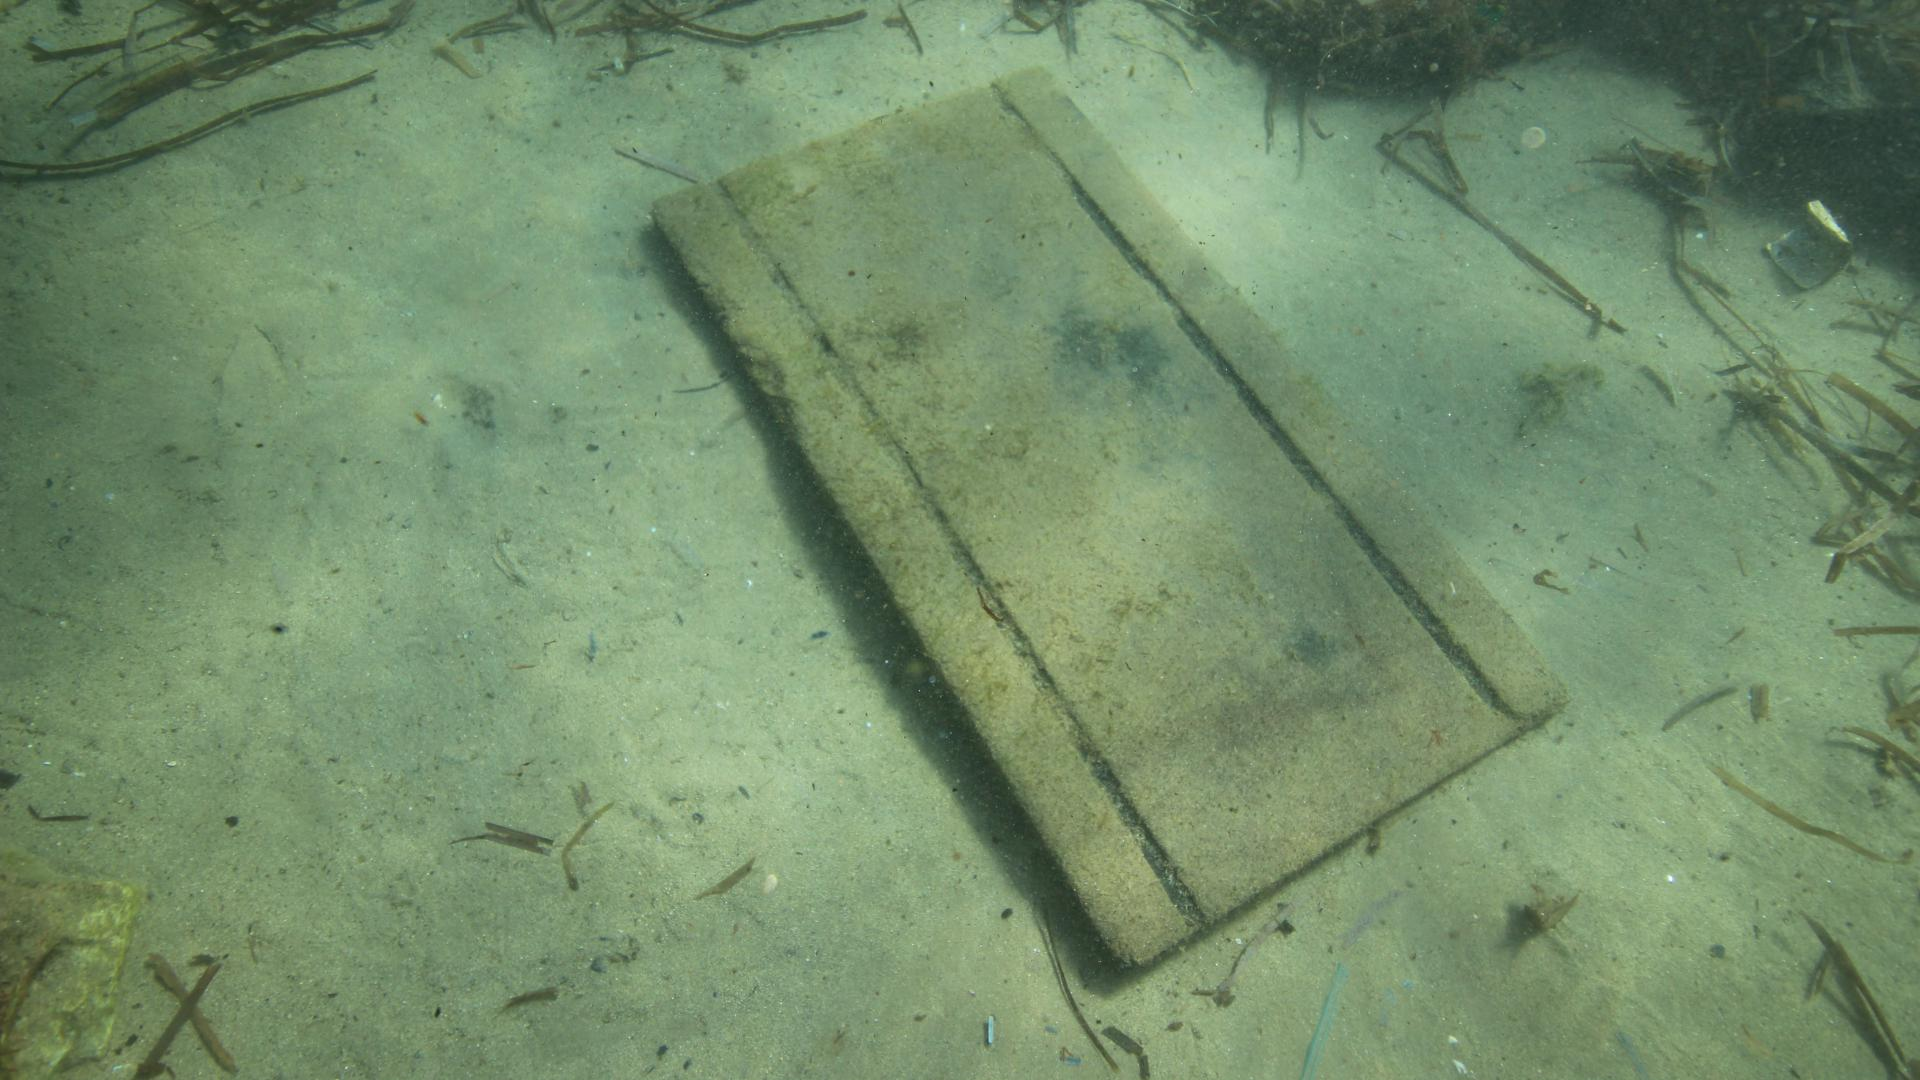wood: (647, 65, 1565, 965)
